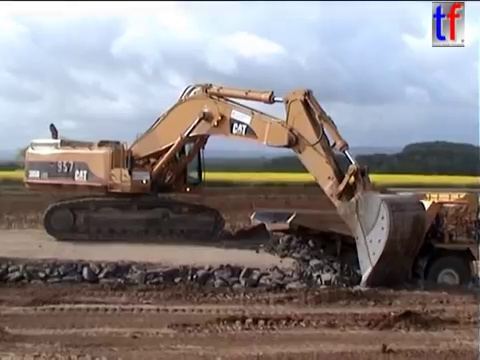excavator: (20, 80, 429, 292)
truck: (247, 189, 480, 302)
